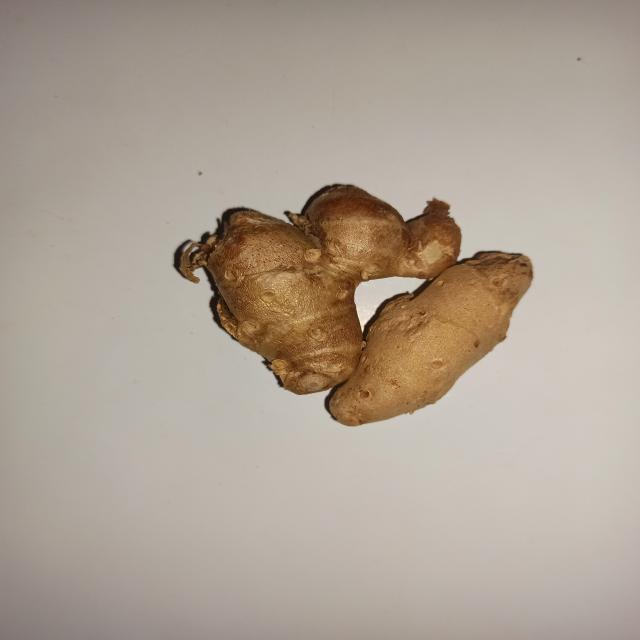ginger: (194, 185, 524, 422)
